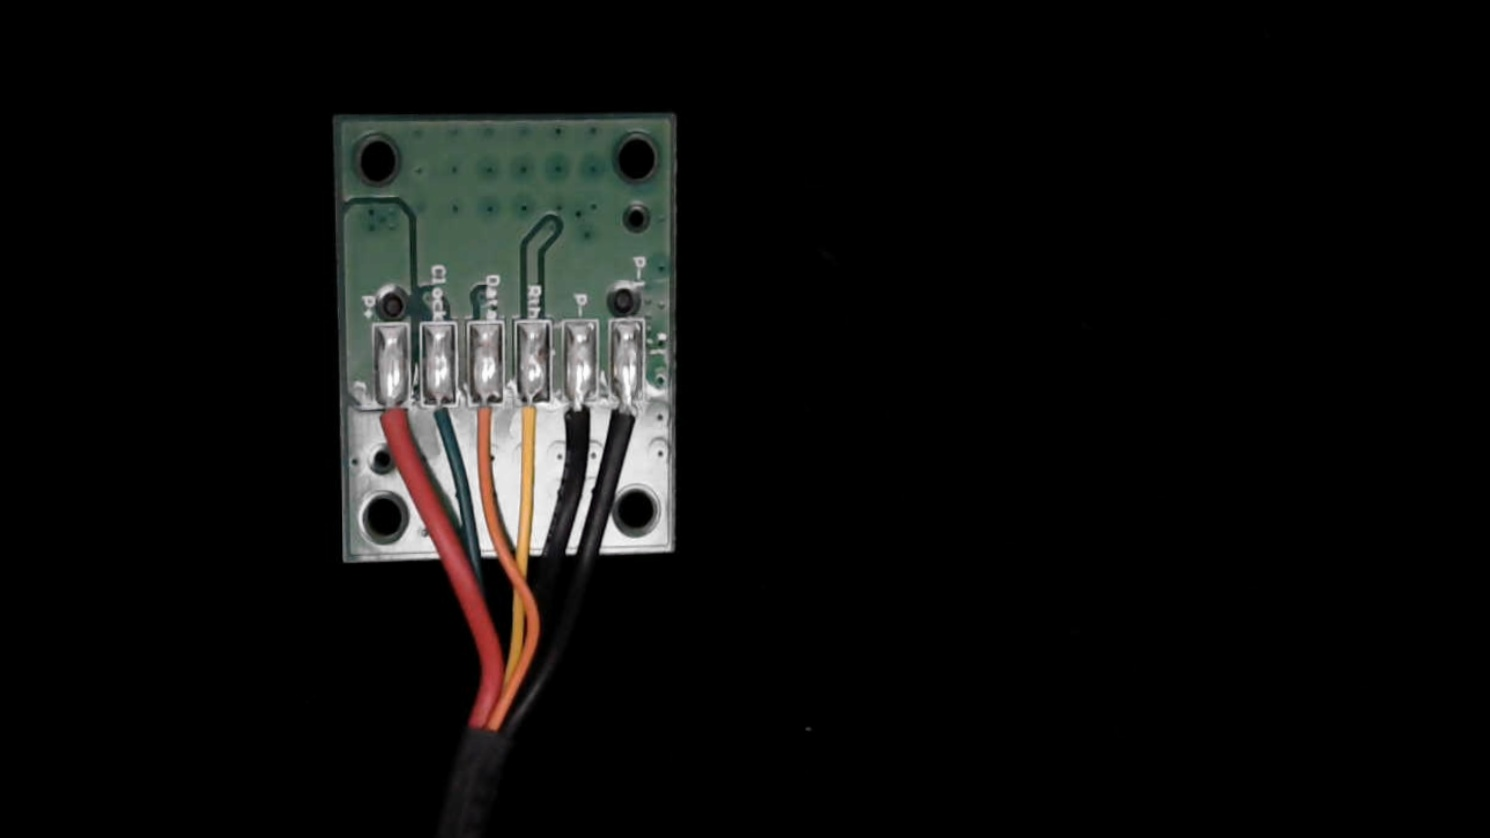Black: (562, 381, 595, 456)
Black1: (608, 381, 644, 456)
Green: (421, 381, 458, 451)
Orange: (467, 382, 506, 452)
Red: (375, 381, 407, 453)
Yellow: (513, 384, 552, 460)
